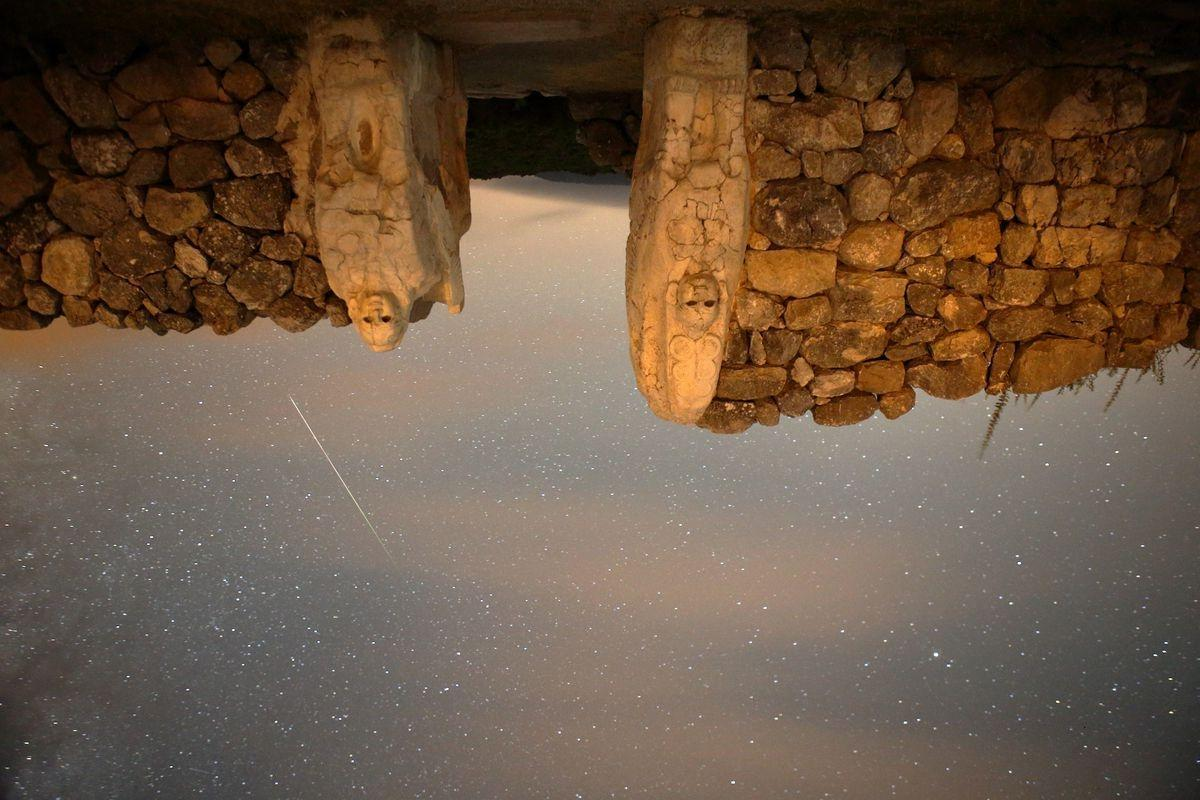meteorite: (267, 396, 420, 576)
